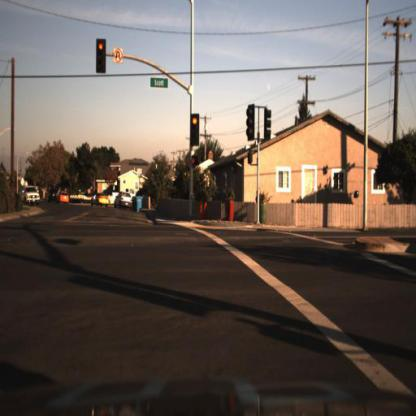car: (115, 189, 137, 213), (22, 186, 43, 211), (89, 191, 110, 212), (113, 189, 134, 208), (91, 191, 109, 212), (47, 186, 61, 207), (58, 190, 71, 207), (58, 189, 71, 205)
trafficLight-Red: (95, 36, 107, 76), (190, 112, 200, 148)
